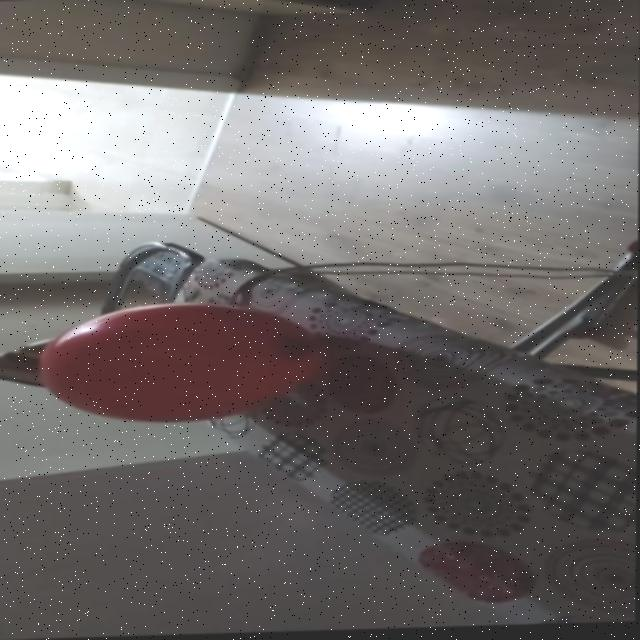balloon: (20, 293, 321, 430)
